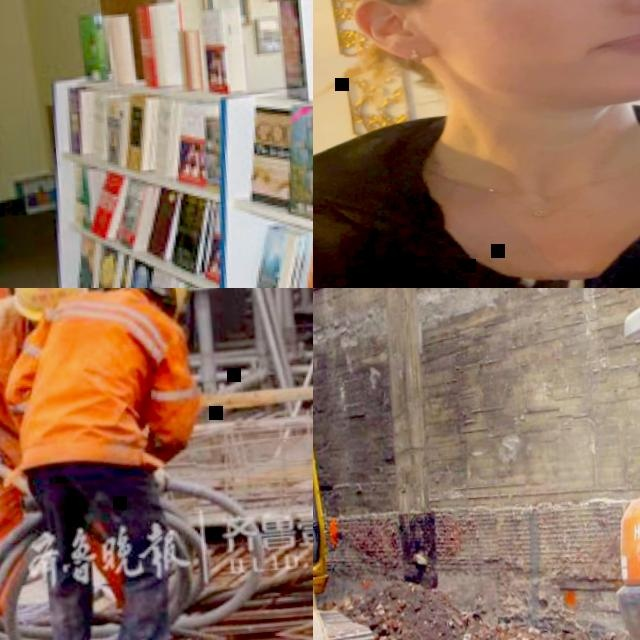Hardhat: (7, 288, 92, 321), (103, 288, 191, 315)
NO-Mask: (380, 0, 640, 122)
NO-Safety Vest: (313, 136, 640, 288)
Person: (313, 0, 640, 288), (0, 288, 235, 640), (0, 288, 132, 632)
Safety Vest: (10, 288, 186, 472), (0, 299, 47, 461)
machinery: (313, 288, 393, 640)
